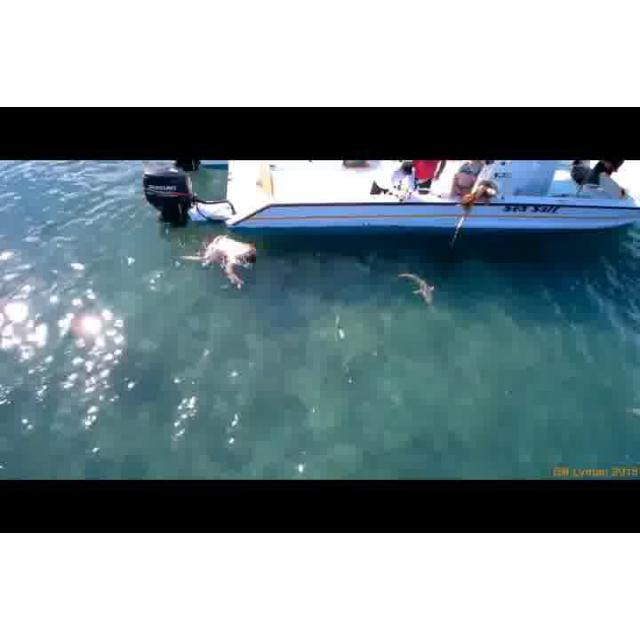human: (177, 239, 266, 296)
